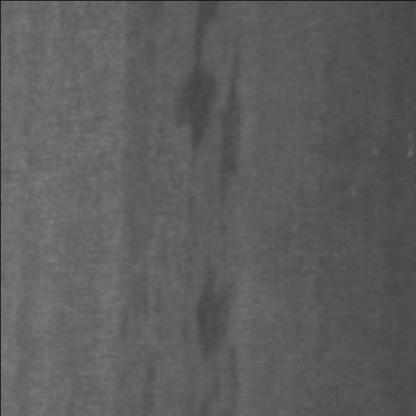inclusion: (176, 4, 247, 258), (193, 231, 254, 416)
